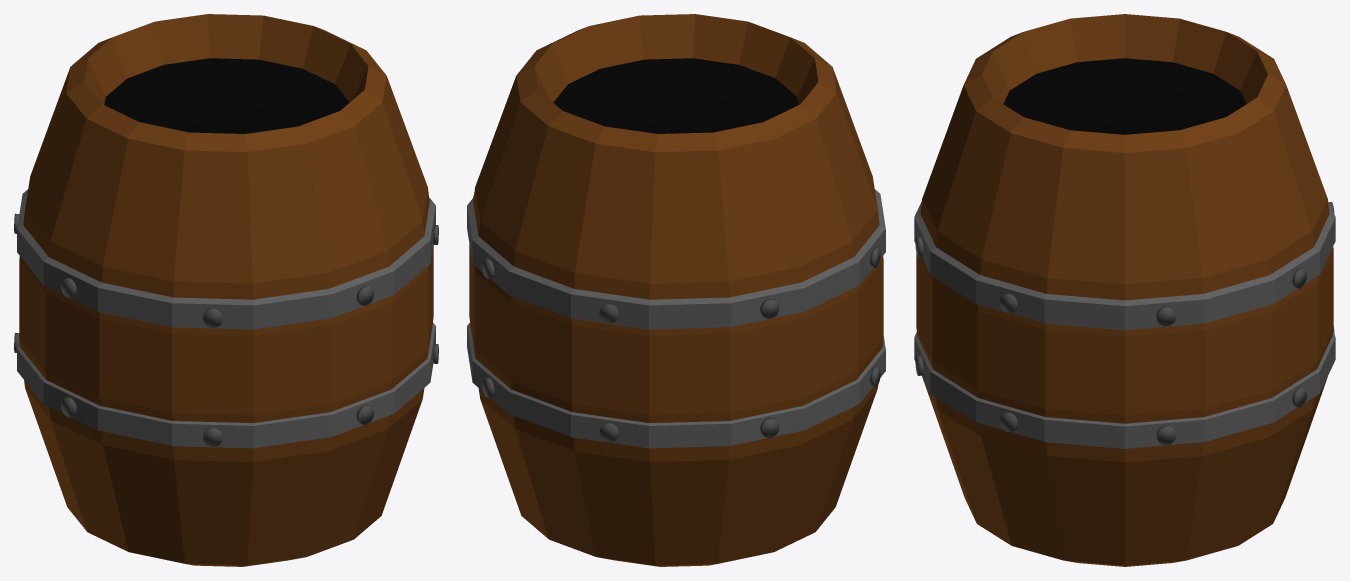
File: Barrel.fbx
The picture shows the model from 3 angles, left to right: view 1: azimuth 30°, elevation 25°; view 2: azimuth 150°, elevation 25°; view 3: azimuth 270°, elevation 25°; orthographic projection.
Parts seen in each view (by area): view 1: Barrel, Iron, Screws; view 2: Barrel, Iron, Screws; view 3: Barrel, Iron, Screws.
Part boxes in pixels (box(x1,y1,x2,y2)): Barrel: box(19, 14, 433, 566); Iron: box(17, 189, 435, 448); Screws: box(14, 213, 438, 446); Barrel: box(469, 14, 883, 566); Iron: box(467, 189, 885, 448); Screws: box(473, 194, 880, 442); Barrel: box(916, 14, 1333, 566); Iron: box(914, 201, 1335, 448); Screws: box(915, 202, 1334, 445).
Size of the model in its own units: 108 by 125 by 108.
